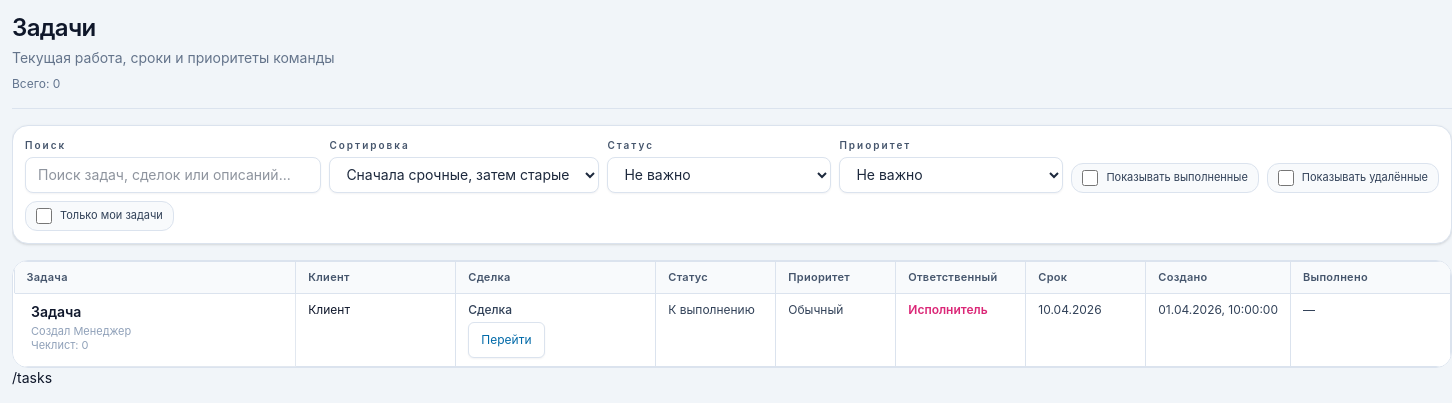
Test case: TasksView › navigates to the related deal without opening a preview
The image size is (1452, 403).
Click the button with aria-label "Перейти в сделку Сделка".
click(506, 340)  # box [468, 322, 544, 358]
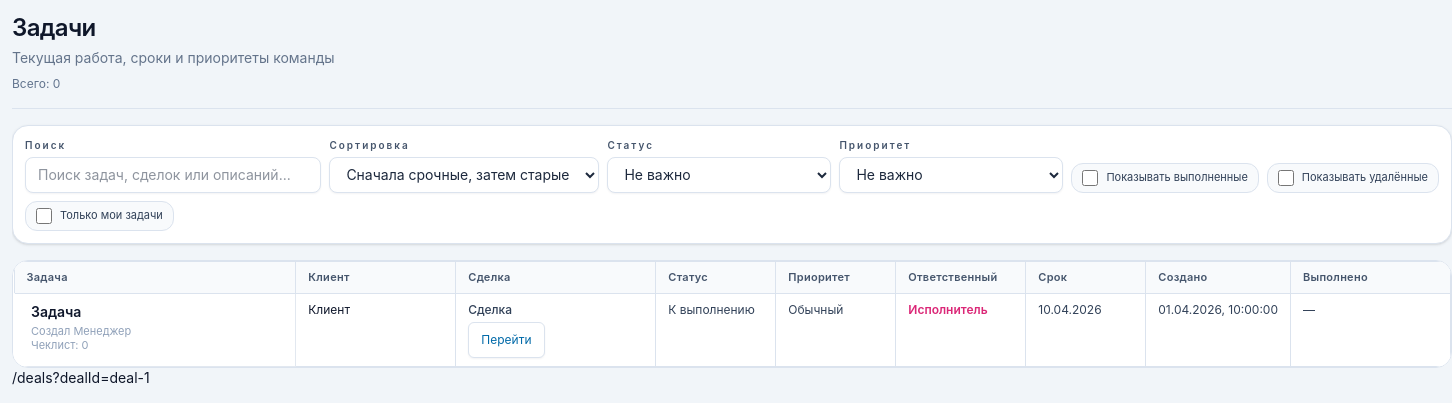
Result: the text with test id "location" reads "/deals?dealId=deal-1" at [12, 369, 150, 386]
